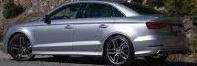Cars: (4, 2, 186, 66)
